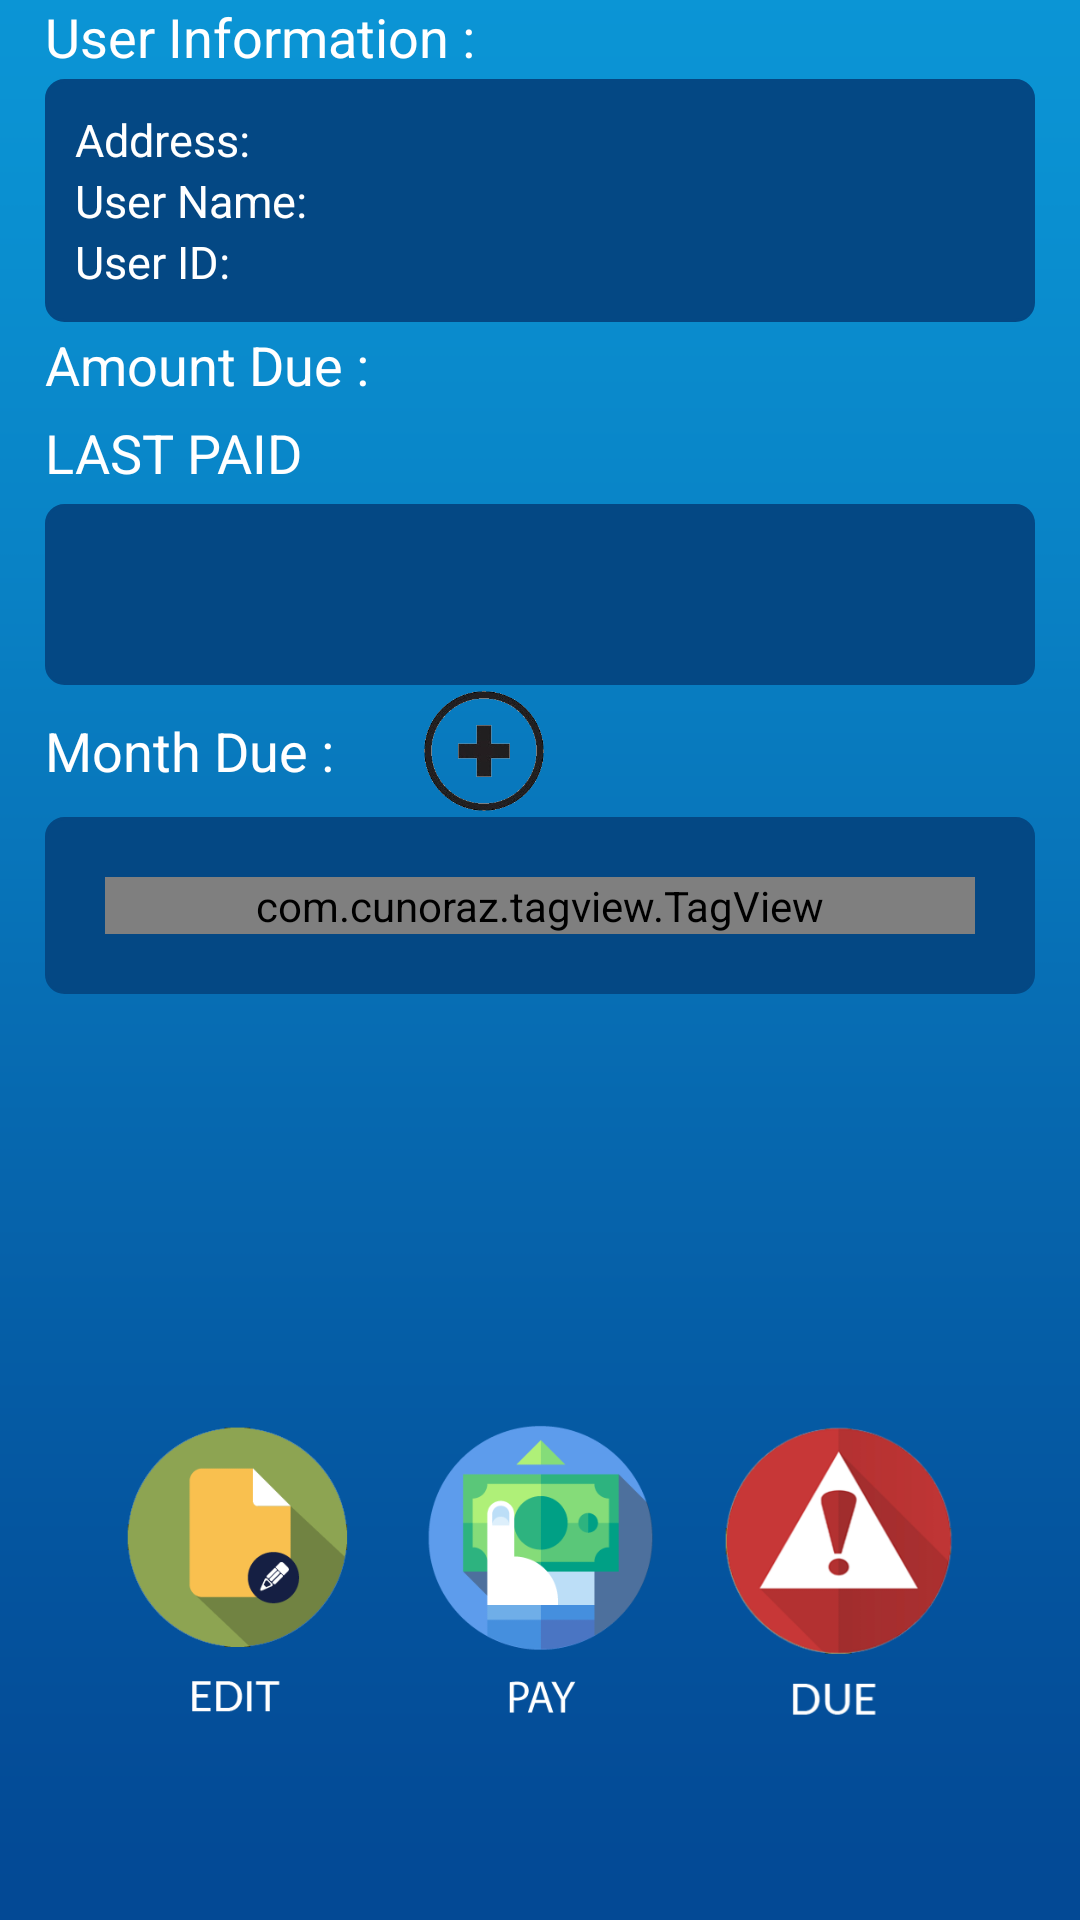

Locate icon controls on the screen. Image size 1080w x 1920h, boxes as (x1, y1, x2, y2).
addtag: (424, 691, 544, 811)
